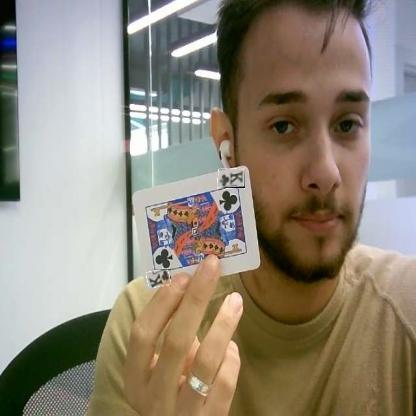KC: (218, 168, 245, 188), (147, 269, 171, 287)
